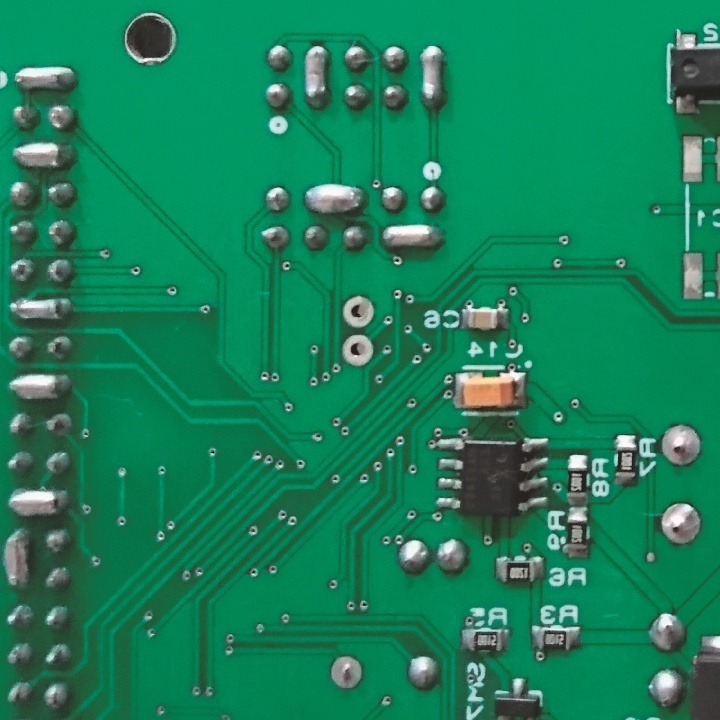F: (657, 420, 707, 469), (658, 499, 704, 546), (327, 652, 366, 692), (338, 292, 379, 330), (339, 332, 376, 369)
P: (1, 525, 34, 597), (301, 180, 367, 215), (5, 372, 79, 403), (5, 485, 72, 518), (13, 64, 82, 95), (379, 222, 447, 253), (6, 295, 76, 325), (302, 40, 331, 112), (10, 140, 79, 170), (418, 43, 447, 111)
